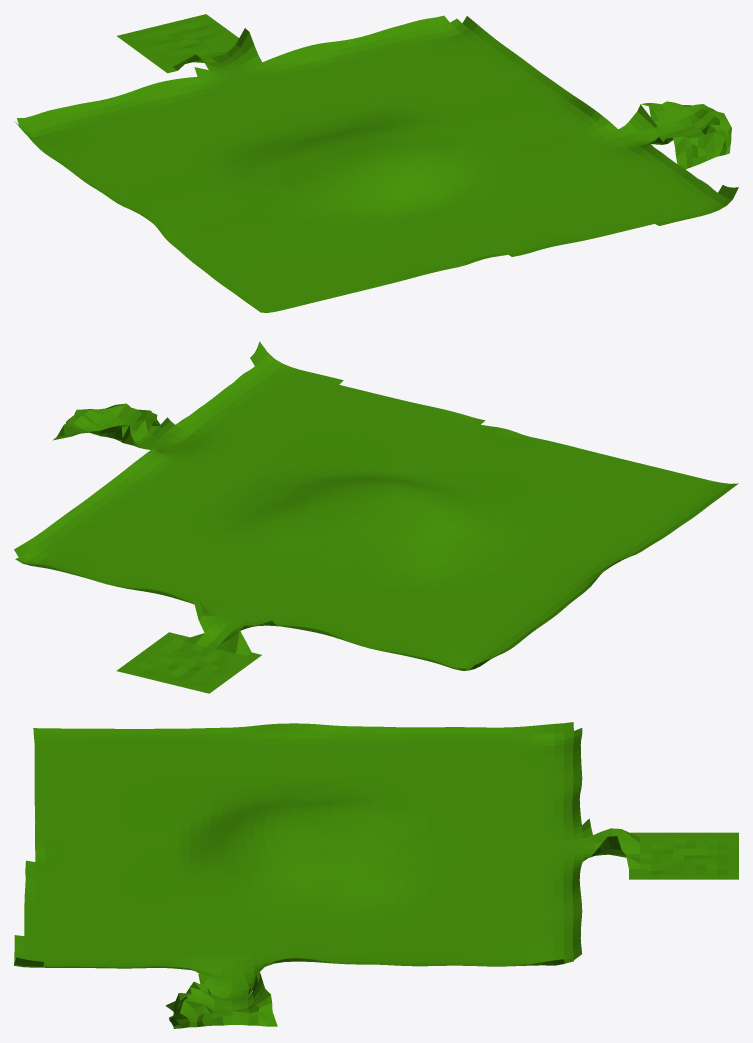
File: LucidBase.fbx
3 renders of one model, top to bottom at view 1: azimuth 30°, elevation 25°; view 2: azimuth 150°, elevation 25°; view 3: azimuth 270°, elevation 25°, orthographic. The views are drawn at different scales.
Visible parts, largest first — view 1: SM_LucidBase; view 2: SM_LucidBase; view 3: SM_LucidBase.
Boxes of the visible parts, left/top/right/bottom form: SM_LucidBase: left=14, top=14, right=738, bottom=312; SM_LucidBase: left=14, top=341, right=738, bottom=693; SM_LucidBase: left=14, top=722, right=738, bottom=1028.
Size of the model in its own units: 8130 by 672 by 8562.
